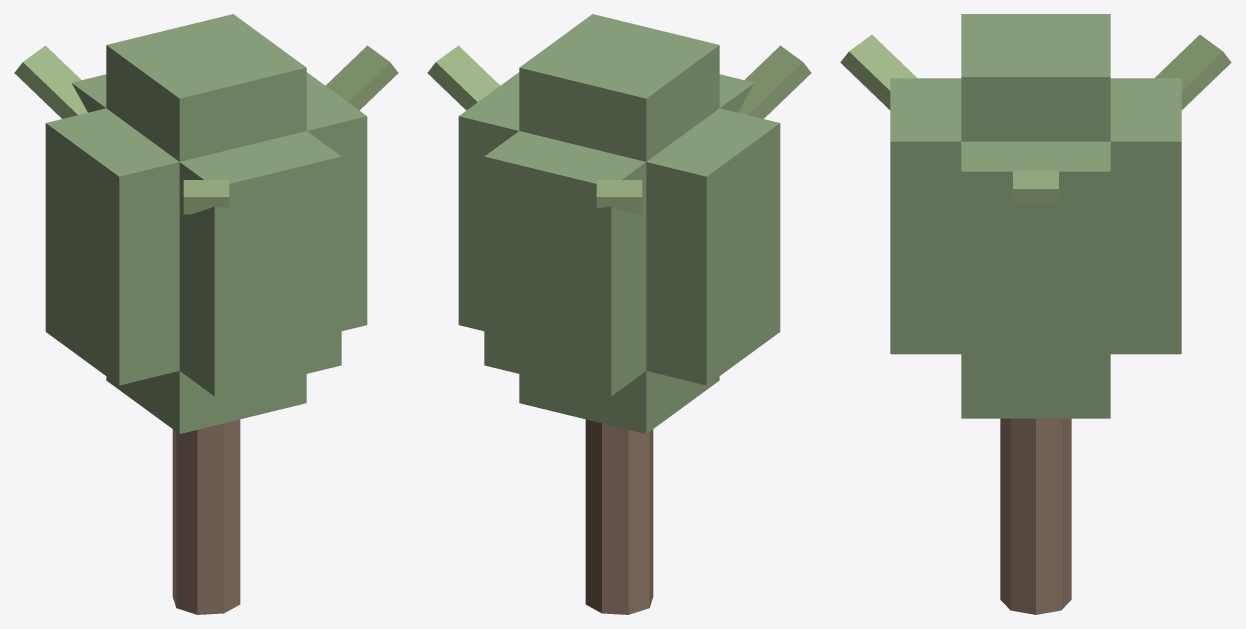
File: Tree_Tall.glb
3 views of the same model, side by side, from view 1: azimuth 30°, elevation 25°; view 2: azimuth 150°, elevation 25°; view 3: azimuth 270°, elevation 25° (orthographic).
Visible parts, largest first — view 1: geometry_0; view 2: geometry_0; view 3: geometry_0.
Part boxes in pixels (x1,y1,x2,y2): geometry_0: (14,14,398,614); geometry_0: (427,14,811,614); geometry_0: (840,14,1231,614).
Size of the model in its own units: 1.01 by 1.72 by 1.1.
